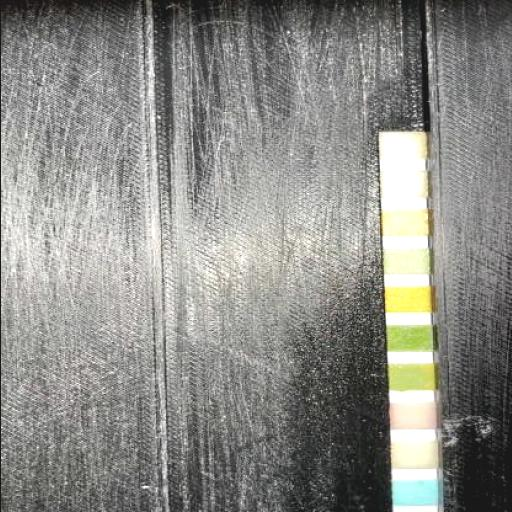Bilirubin: (392, 442, 436, 468)
Blood: (385, 326, 432, 350)
Glucose: (392, 481, 437, 505)
Ketone: (390, 404, 436, 430)
Leukocytes: (379, 132, 425, 158)
Nitrite: (380, 171, 426, 197)
Protein: (383, 250, 429, 274)
SpGravity: (389, 364, 433, 390)
Urobilinogen: (382, 212, 428, 236)
pH: (384, 286, 430, 312)
strip: (378, 131, 437, 511)
